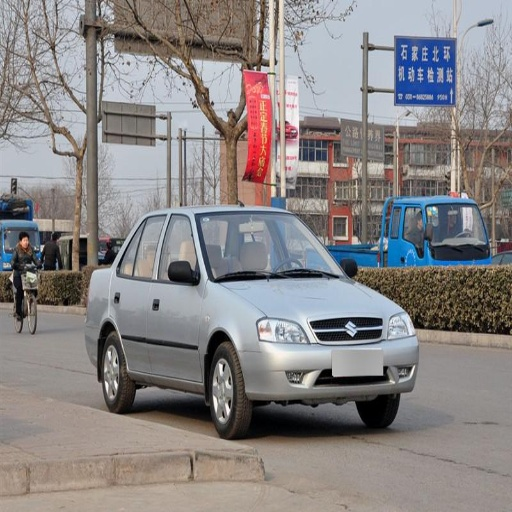front_bumper: (242, 316, 417, 401)
front_right_door: (151, 215, 203, 381)
front_right_light: (257, 316, 310, 344)
